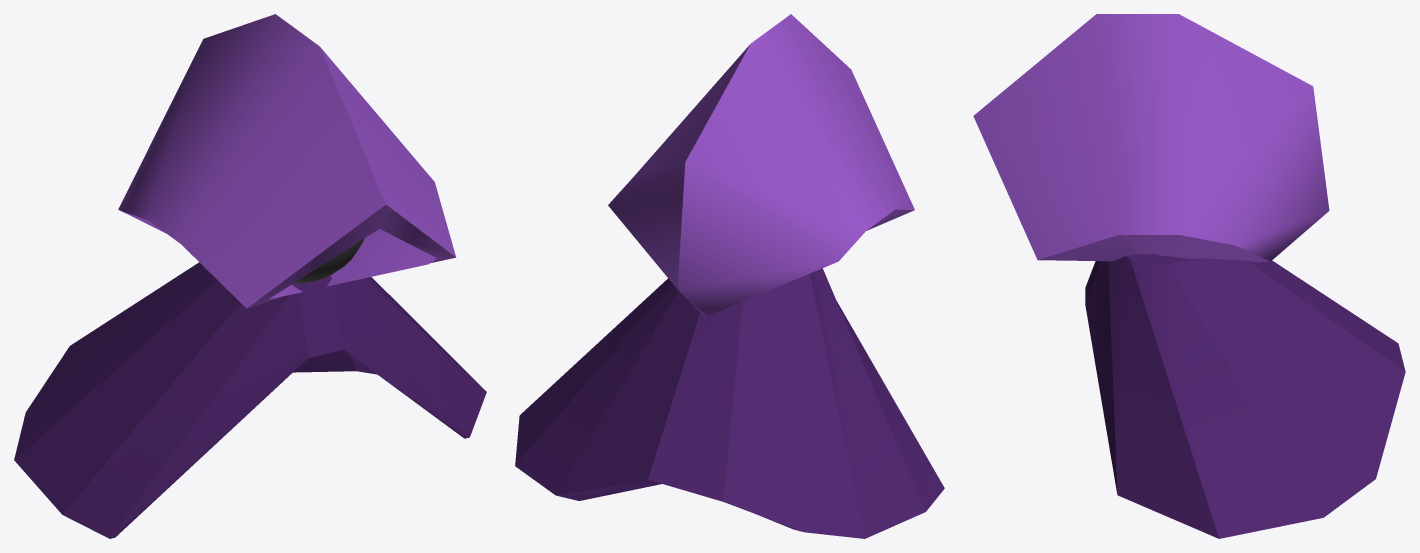
File: player_cloak_mof_3.obj
3 renders of one model, left to right at view 1: azimuth 30°, elevation 25°; view 2: azimuth 150°, elevation 25°; view 3: azimuth 270°, elevation 25°, orthographic. The views are drawn at different scales.
Size of the model in its own units: 3.78 by 3.82 by 3.49.
Materials: 1 (1 with a texture image).
